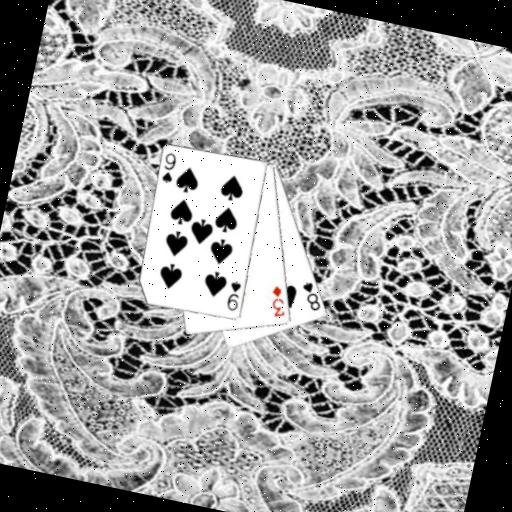3D: (264, 281, 292, 320)
8S: (294, 276, 327, 313)
9S: (223, 277, 245, 313), (157, 149, 179, 185)
